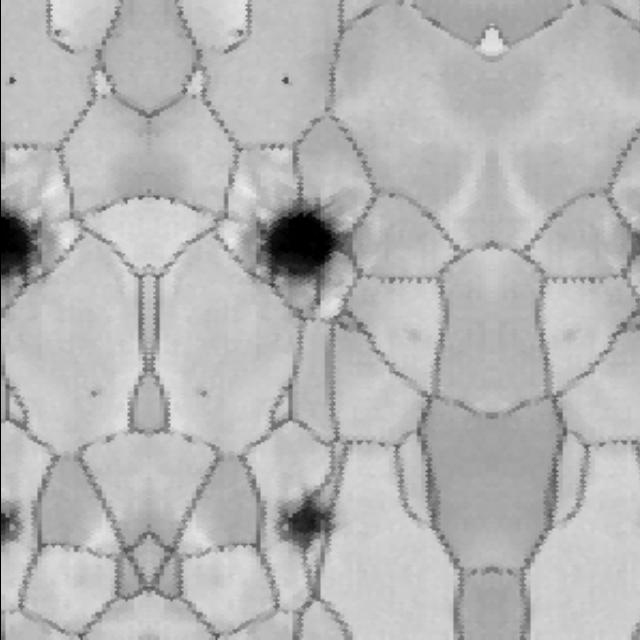good_void: (254, 194, 351, 285), (273, 481, 335, 559), (0, 197, 43, 285), (0, 500, 23, 559), (276, 76, 292, 95), (5, 76, 21, 95), (86, 383, 101, 399), (196, 383, 210, 399)
